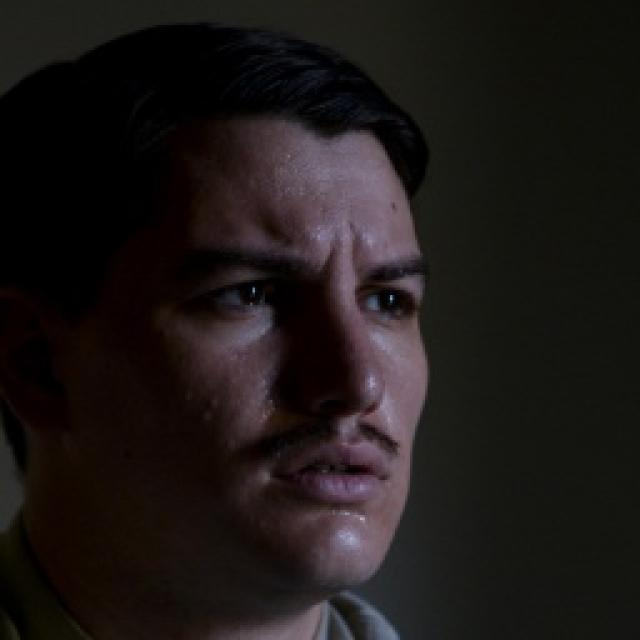no-glasses: (168, 255, 424, 352)
